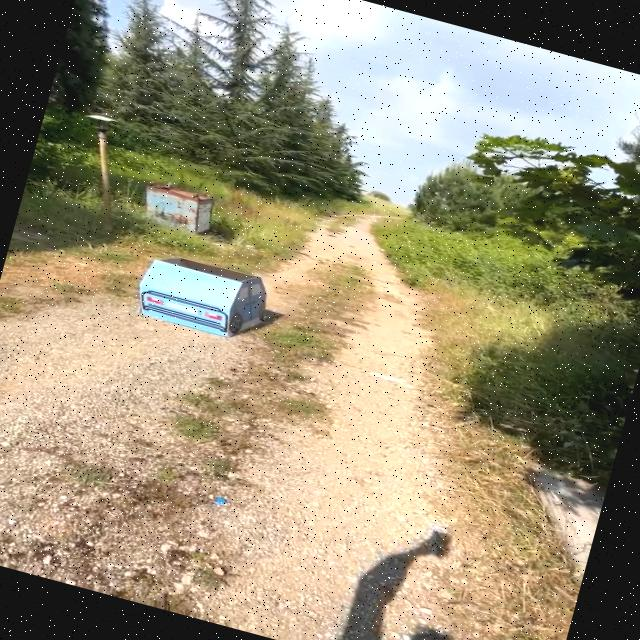blue_car: (113, 235, 302, 366)
